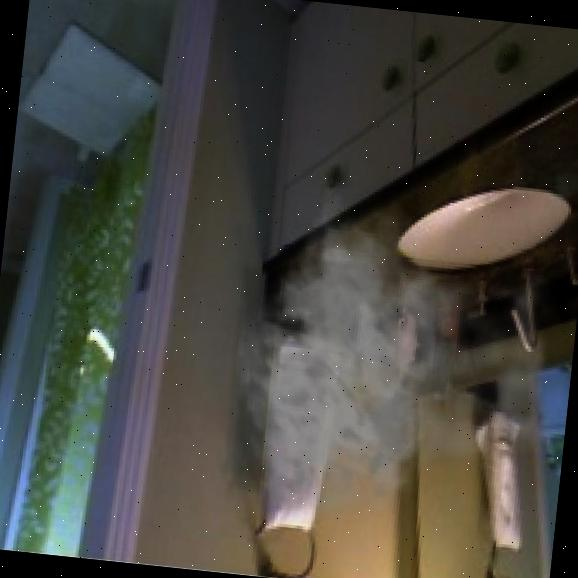smoke: (216, 179, 578, 555)
